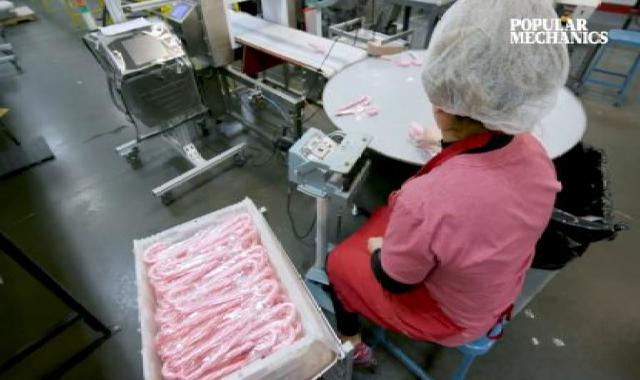hairnet: (418, 1, 570, 132)
